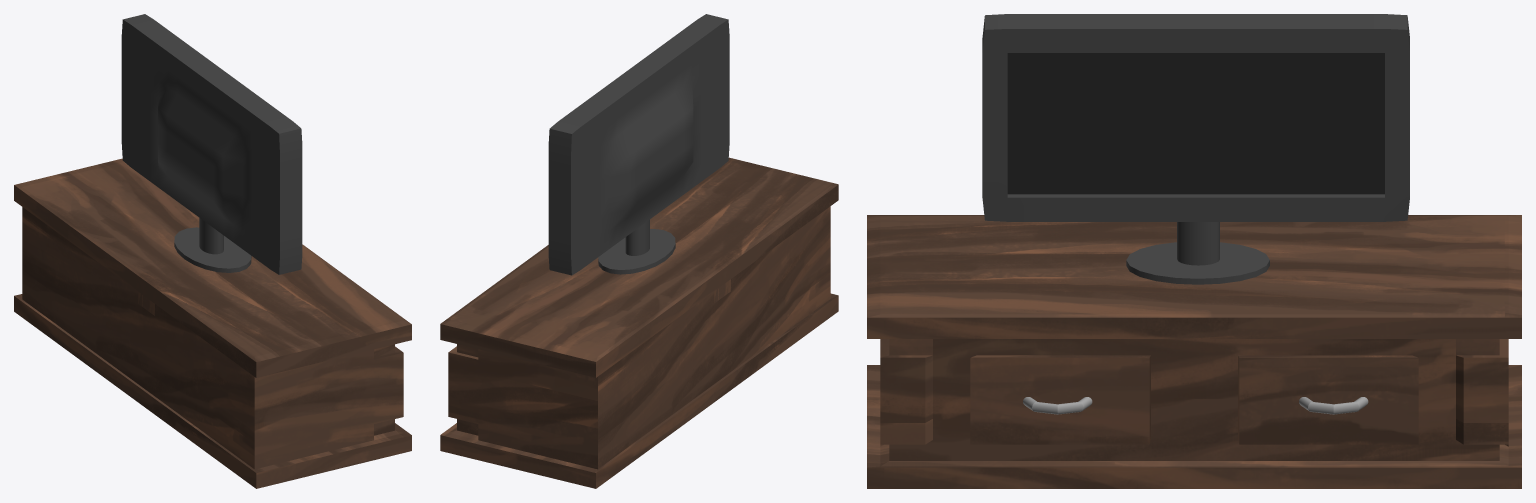
Rendered from TV_and_Table.fbx.
3 renders of one model, left to right at view 1: azimuth 30°, elevation 25°; view 2: azimuth 150°, elevation 25°; view 3: azimuth 270°, elevation 25°, orthographic. The views are drawn at different scales.
Visible parts, largest first — view 1: pTorus11; view 2: pTorus11; view 3: pTorus11.
Part boxes in pixels (x1=…): pTorus11: x1=14, y1=14, x2=411, y2=488; pTorus11: x1=440, y1=14, x2=838, y2=488; pTorus11: x1=867, y1=14, x2=1521, y2=488.
Size of the model in its own units: 1.35 by 2.4 by 3.42.
Materials: 4 (1 with a texture image).
